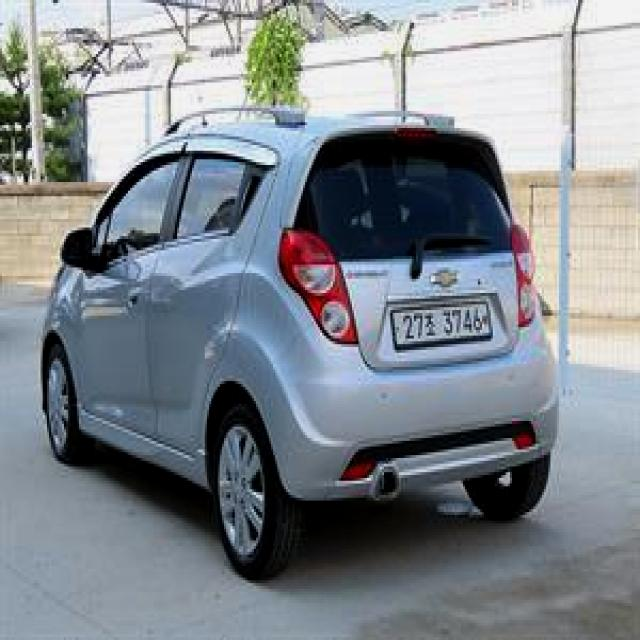car: (37, 103, 564, 589)
illegal_plate: (390, 299, 493, 351)
